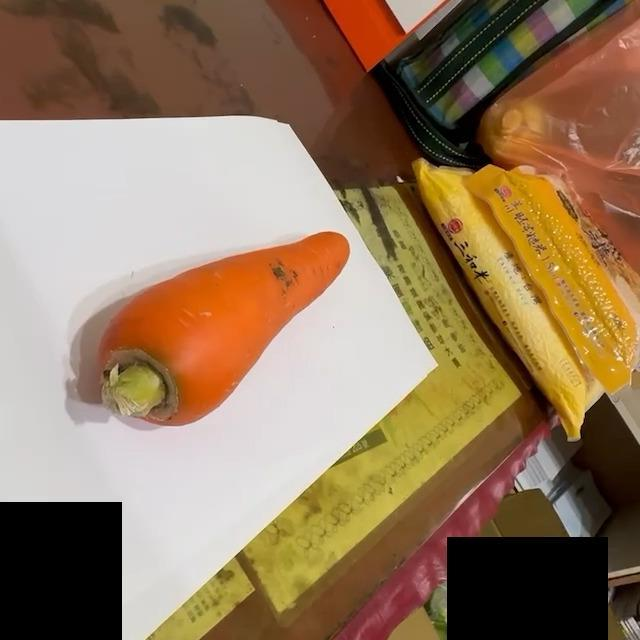carrot: (97, 234, 354, 430)
